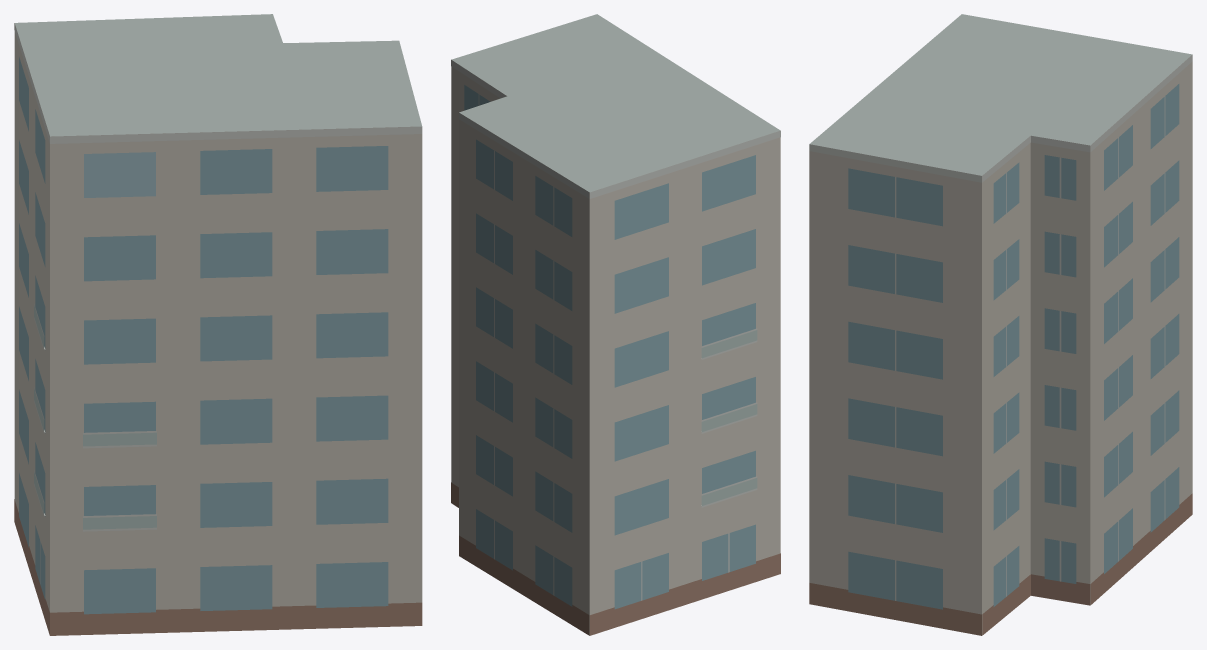
The model's file is survey-upis-32945851.glb.
The picture shows the model from 3 angles, left to right: view 1: azimuth 30°, elevation 25°; view 2: azimuth 150°, elevation 25°; view 3: azimuth 270°, elevation 25°; orthographic projection. The views are drawn at different scales.
Parts seen in each view (by area): view 1: survey-upis-32945851.tmp; view 2: survey-upis-32945851.tmp; view 3: survey-upis-32945851.tmp.
Part boxes in pixels (<box>): survey-upis-32945851.tmp: <box>14,14,422,635</box>; survey-upis-32945851.tmp: <box>451,14,780,635</box>; survey-upis-32945851.tmp: <box>809,14,1192,635</box>.
Bounding box in the file's own units: 12.31 × 16.3 × 12.32.
